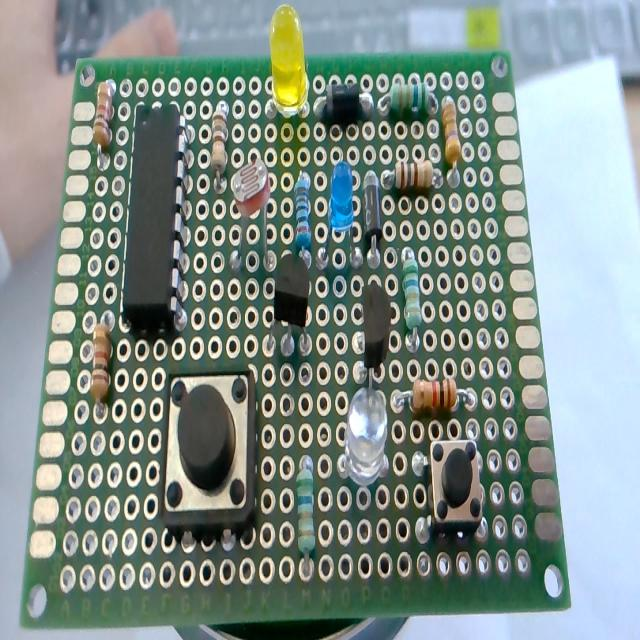IC: (116, 98, 194, 340)
cds: (232, 160, 277, 278)
diode: (312, 76, 378, 131), (359, 164, 390, 270)
led: (257, 4, 313, 130), (334, 387, 395, 489), (320, 156, 362, 274)
resistor: (291, 437, 324, 598), (392, 372, 483, 419), (83, 305, 117, 426), (377, 148, 443, 203), (90, 70, 119, 177), (398, 245, 424, 358), (375, 82, 437, 125), (207, 100, 233, 194), (442, 94, 464, 197), (290, 164, 312, 266)
switch: (154, 360, 270, 536), (413, 435, 491, 543)
transistor: (270, 252, 314, 365), (356, 281, 398, 389)
